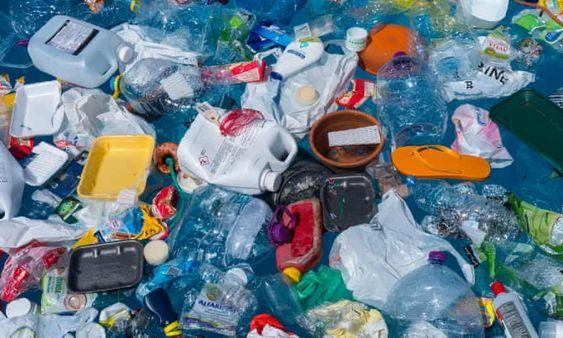HDPE: (179, 103, 298, 192), (27, 12, 132, 92), (271, 31, 323, 82)
LDPE: (337, 197, 464, 305)
PETE: (377, 57, 445, 142)
PS: (76, 131, 154, 202), (69, 239, 144, 293), (8, 80, 65, 137), (21, 144, 73, 184)
